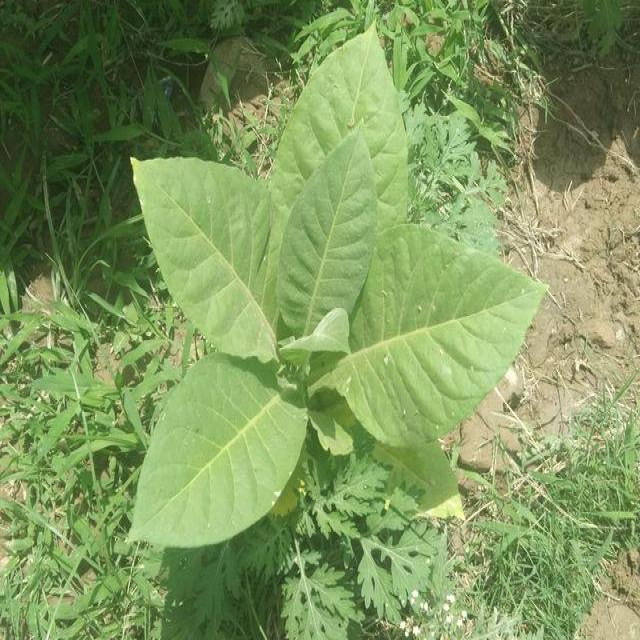crop: (123, 13, 545, 547)
